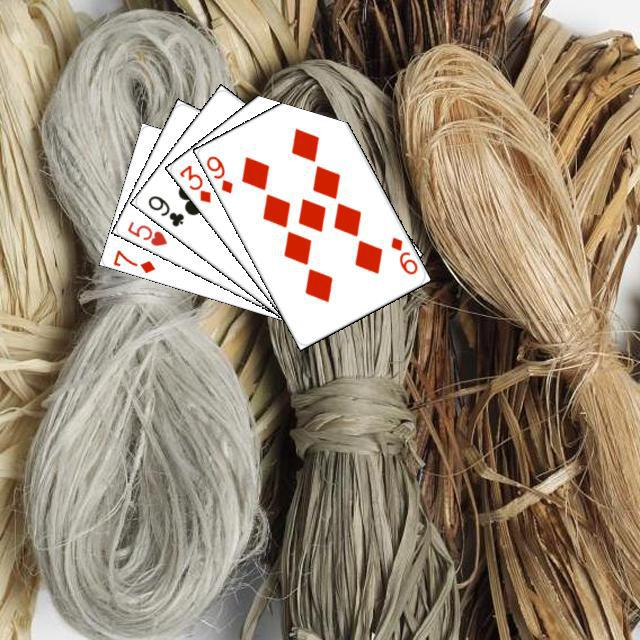3d: (174, 160, 213, 205)
5h: (122, 216, 169, 248)
7d: (109, 245, 157, 275)
9c: (143, 190, 186, 228)
9d: (201, 151, 235, 195), (386, 232, 419, 276)
